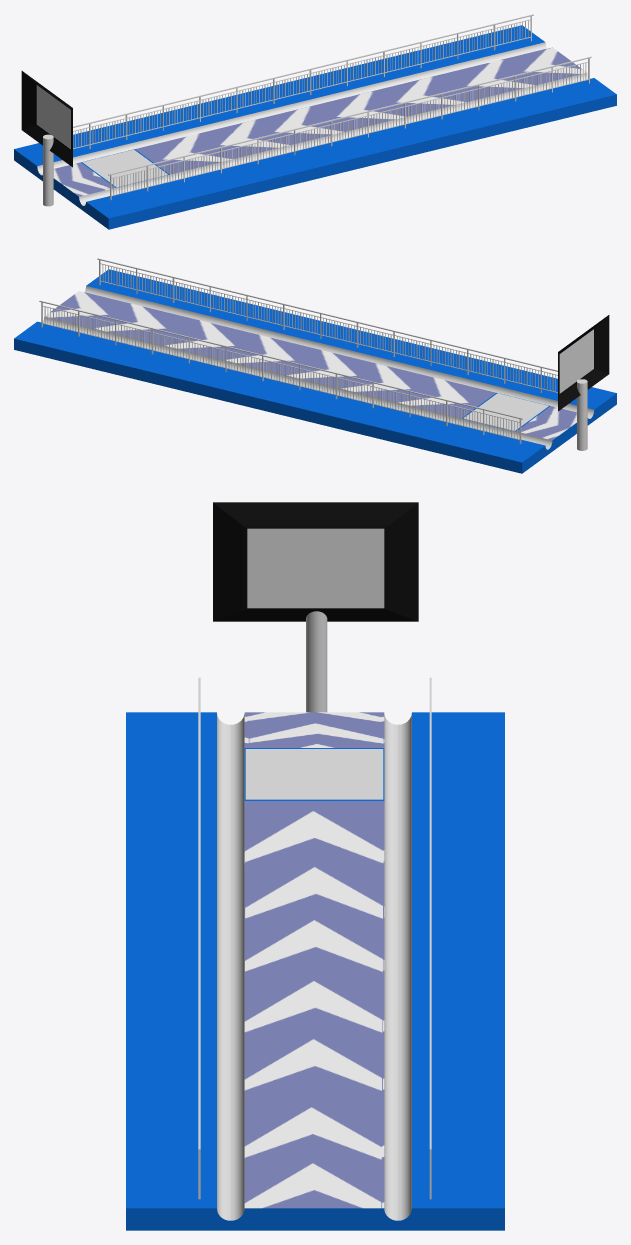
File: path.fbx
The picture shows the model from 3 angles, top to bottom: view 1: azimuth 30°, elevation 25°; view 2: azimuth 150°, elevation 25°; view 3: azimuth 270°, elevation 25°; orthographic projection. The views are drawn at different scales.
Parts seen in each view (by area): view 1: Cube, Fence.001, Fence, Plane, Cylinder; view 2: Cube, Fence, Fence.001, Plane, Cylinder; view 3: Cube, Plane, Cylinder, Fence.001, Fence.
Part boxes in pixels (<box>): Cube: <box>14,25,616,229</box>; Fence.001: <box>108,56,591,200</box>; Fence: <box>73,14,533,149</box>; Plane: <box>21,71,72,167</box>; Cylinder: <box>43,134,53,206</box>; Cube: <box>14,269,616,473</box>; Fence: <box>39,300,522,444</box>; Fence.001: <box>97,258,557,392</box>; Plane: <box>558,315,609,411</box>; Cylinder: <box>577,379,587,450</box>; Cube: <box>126,712,504,1230</box>; Plane: <box>213,502,418,621</box>; Cylinder: <box>306,611,327,712</box>; Fence.001: <box>198,677,200,1199</box>; Fence: <box>429,677,431,1199</box>.
Size of the model in its own units: 2198 by 462 by 687.
